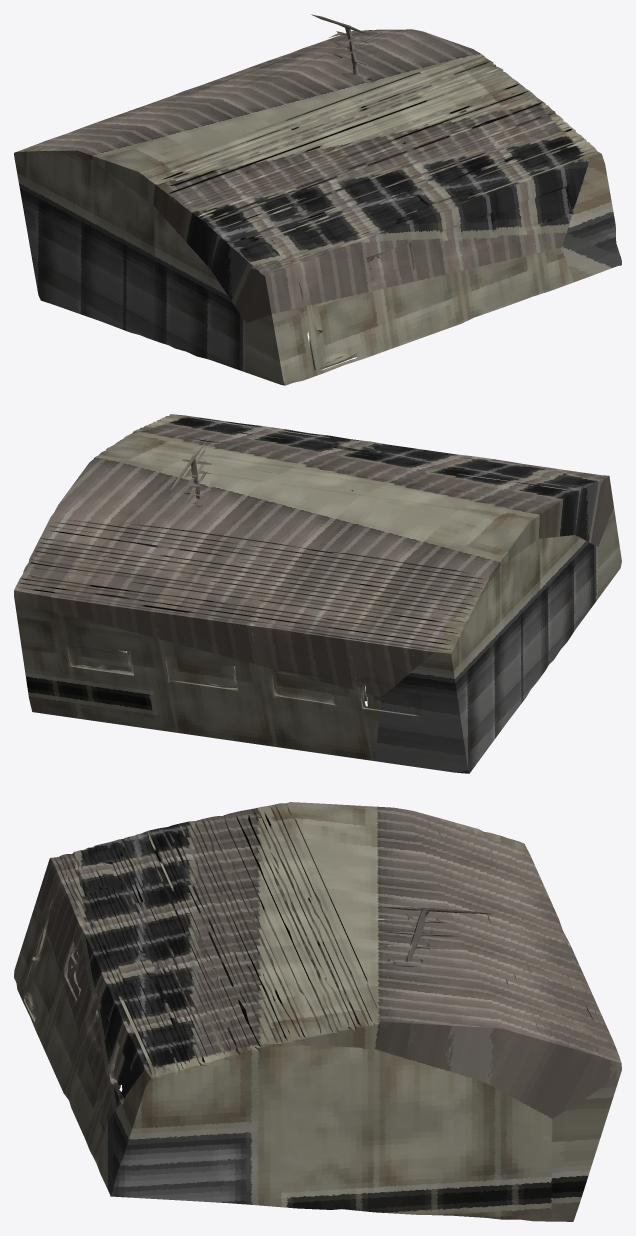
The model's file is hangar_hd.glb.
The picture shows the model from 3 angles, top to bottom: view 1: azimuth 30°, elevation 25°; view 2: azimuth 150°, elevation 25°; view 3: azimuth 270°, elevation 25°; orthographic projection. The views are drawn at different scales.
Parts seen in each view (by area): view 1: hd_body; view 2: hd_body; view 3: hd_body.
Boxes of the visible parts, box(x1,y1,x2,y2) form: hd_body: box(14, 14, 621, 385); hd_body: box(14, 414, 621, 773); hd_body: box(14, 802, 621, 1221).
Size of the model in its own units: 38.98 by 19.35 by 40.3.
1 material, 1 textured.
